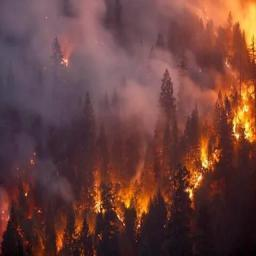Heavy smoke: (1, 0, 232, 219)
Large fire: (0, 0, 255, 256)
